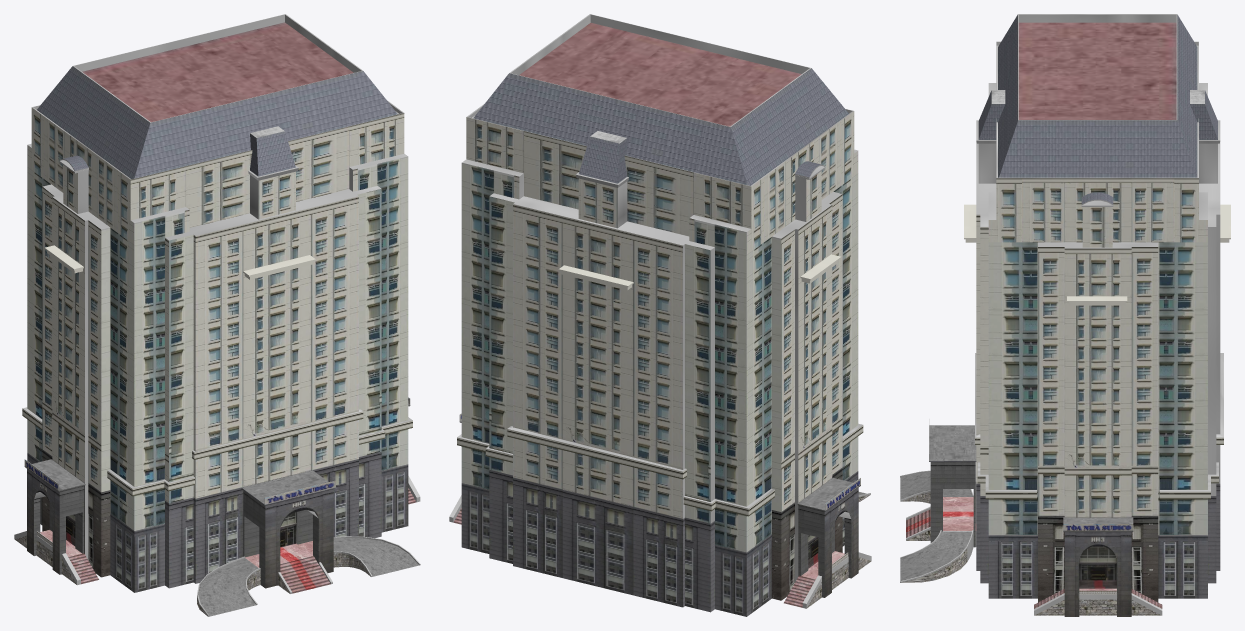
The picture shows the model from 3 angles, left to right: view 1: azimuth 30°, elevation 25°; view 2: azimuth 150°, elevation 25°; view 3: azimuth 270°, elevation 25°; orthographic projection. The views are drawn at different scales.
Parts seen in each view (by area): view 1: HN1339_ToaNhaSudico; view 2: HN1339_ToaNhaSudico; view 3: HN1339_ToaNhaSudico.
Boxes of the visible parts, x1,y1,x2,y2 form: HN1339_ToaNhaSudico: (14, 14, 420, 616); HN1339_ToaNhaSudico: (449, 14, 871, 616); HN1339_ToaNhaSudico: (900, 14, 1230, 616).
Size of the model in its own units: 58.81 by 72.27 by 46.83.
Materials: 1 (1 with a texture image).
